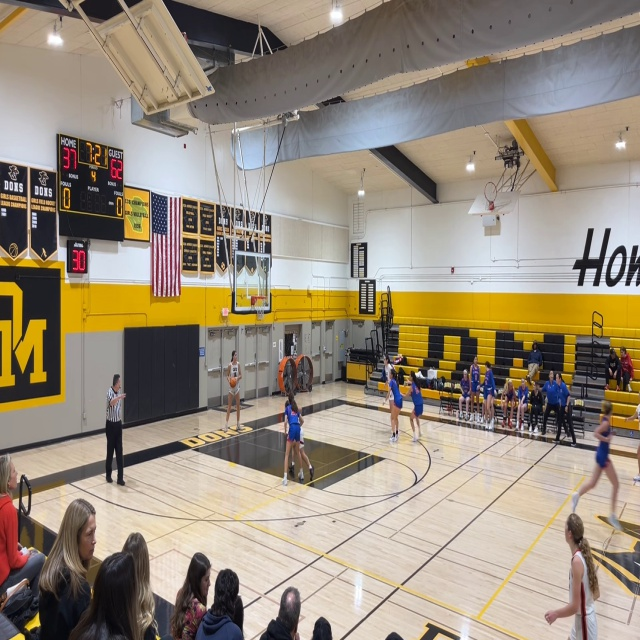Basketball: (228, 377, 237, 387)
